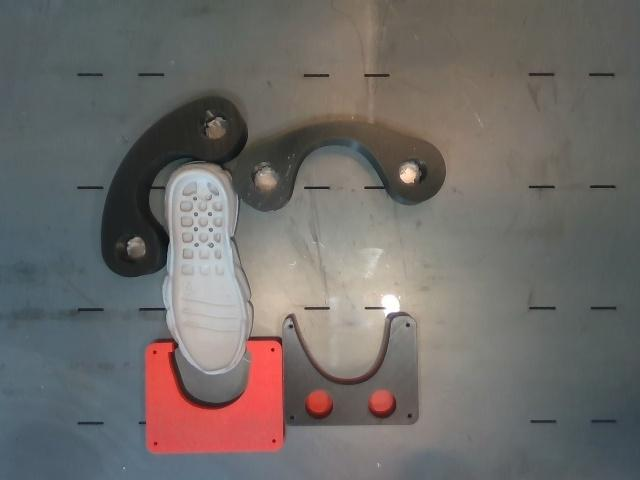shoes: (169, 169, 245, 373)
